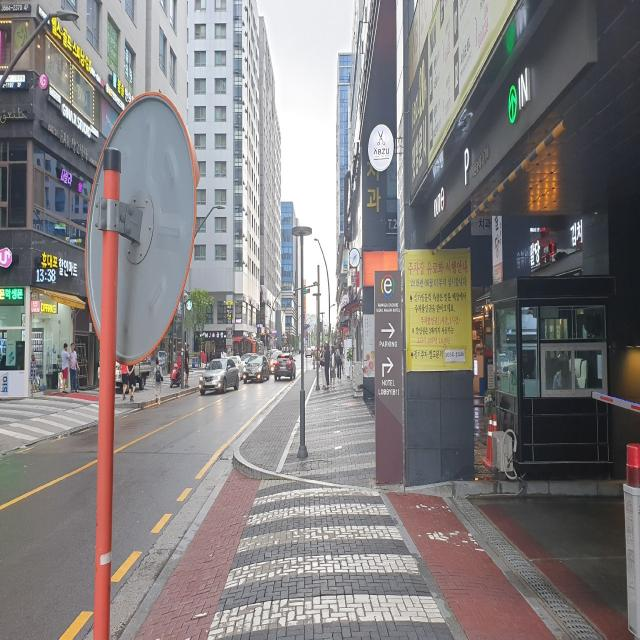횡단보도: (205, 475, 448, 639)
